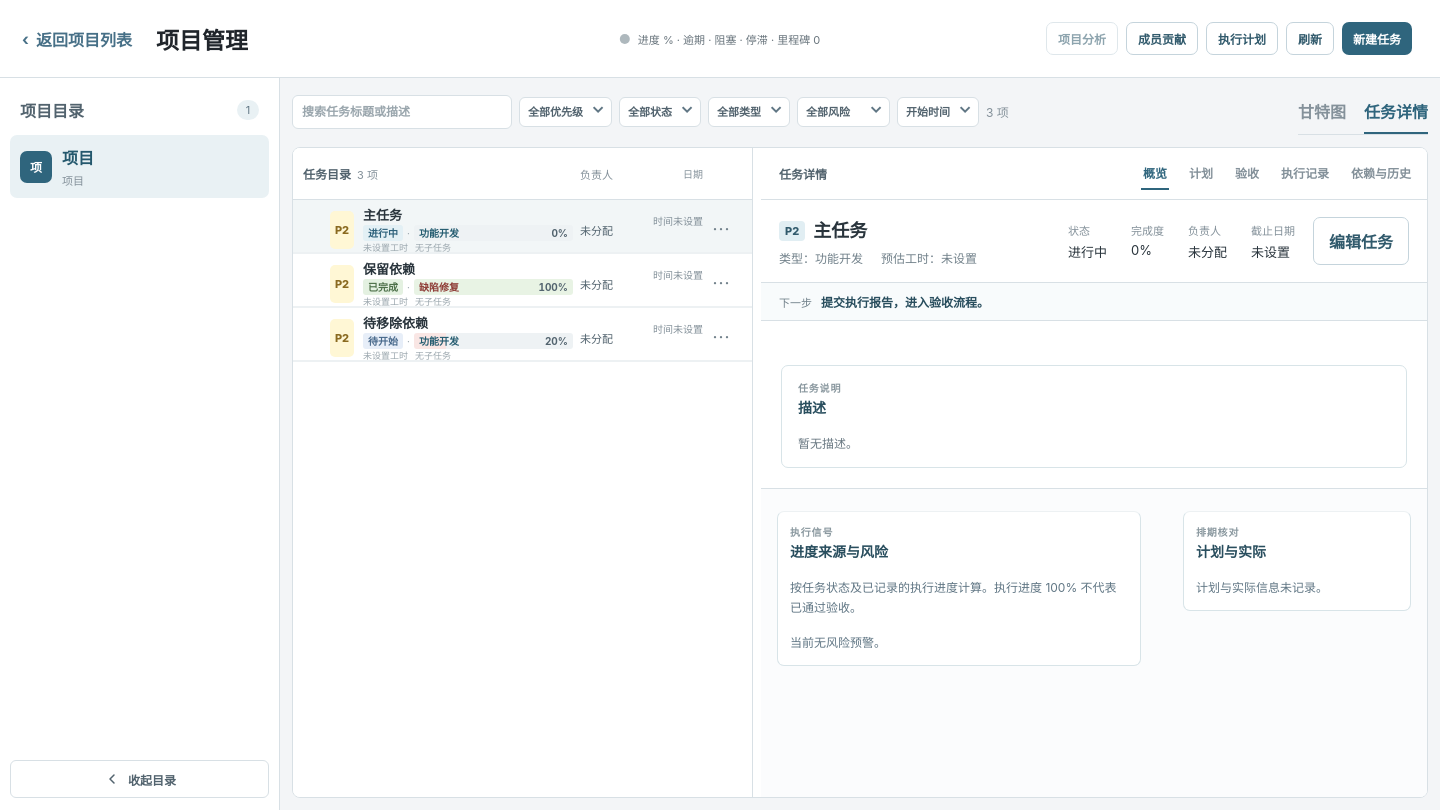
Test case: removes a dependency locally and persists the remaining selection
Expected: the heading "P2 主任务" is shown, [779,220,867,241]
Click the tab "依赖与历史". click: (1381, 174)
box: [1349,157,1413,190]
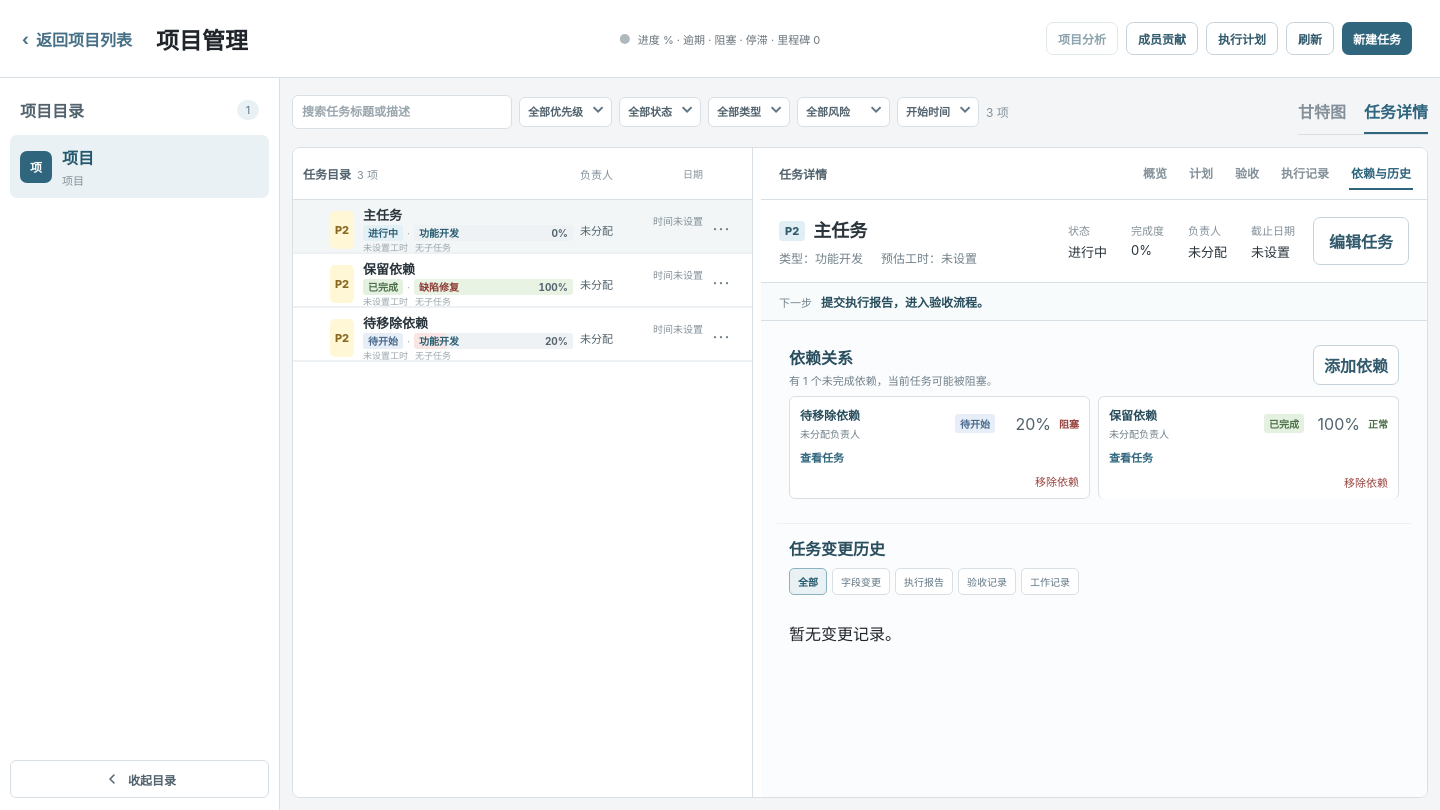
Expected: the text "待移除依赖" below "任务目录" is shown, [363,315,428,331]
Expected: the element showing "待移除依赖 未分配负责人 待开始 20% 阻塞 查看任务 移除依赖" is shown, [789,396,1090,499]
Click the button with aria-label "移除依赖 待移除依赖". click: (1057, 481)
box: [1035,473,1079,489]
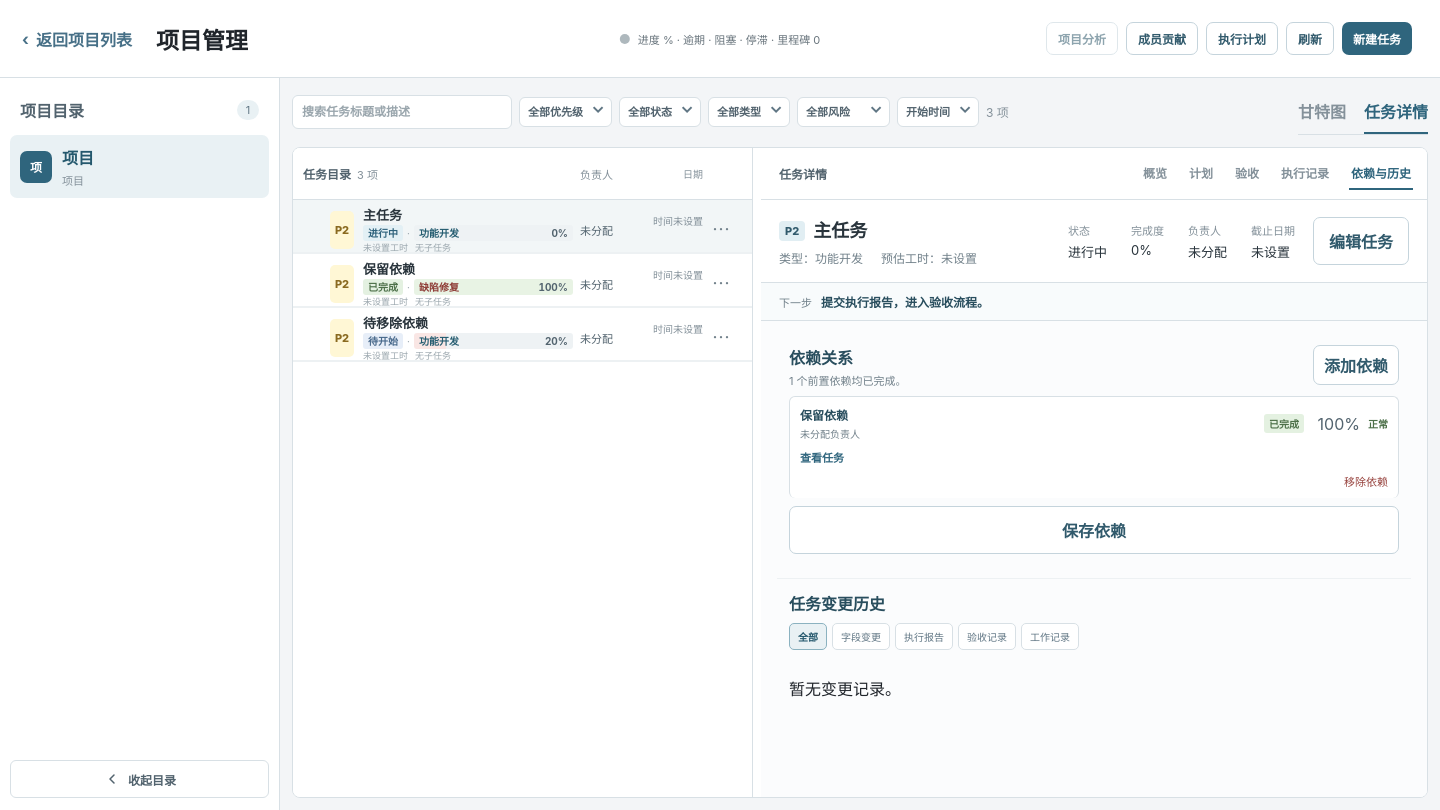
Expected: the text "待移除依赖" is shown once, [363,315,428,331]
Expected: the button "保存依赖" is shown
Click the button "保存依赖". click: (1094, 530)
box: [789,506,1399,554]
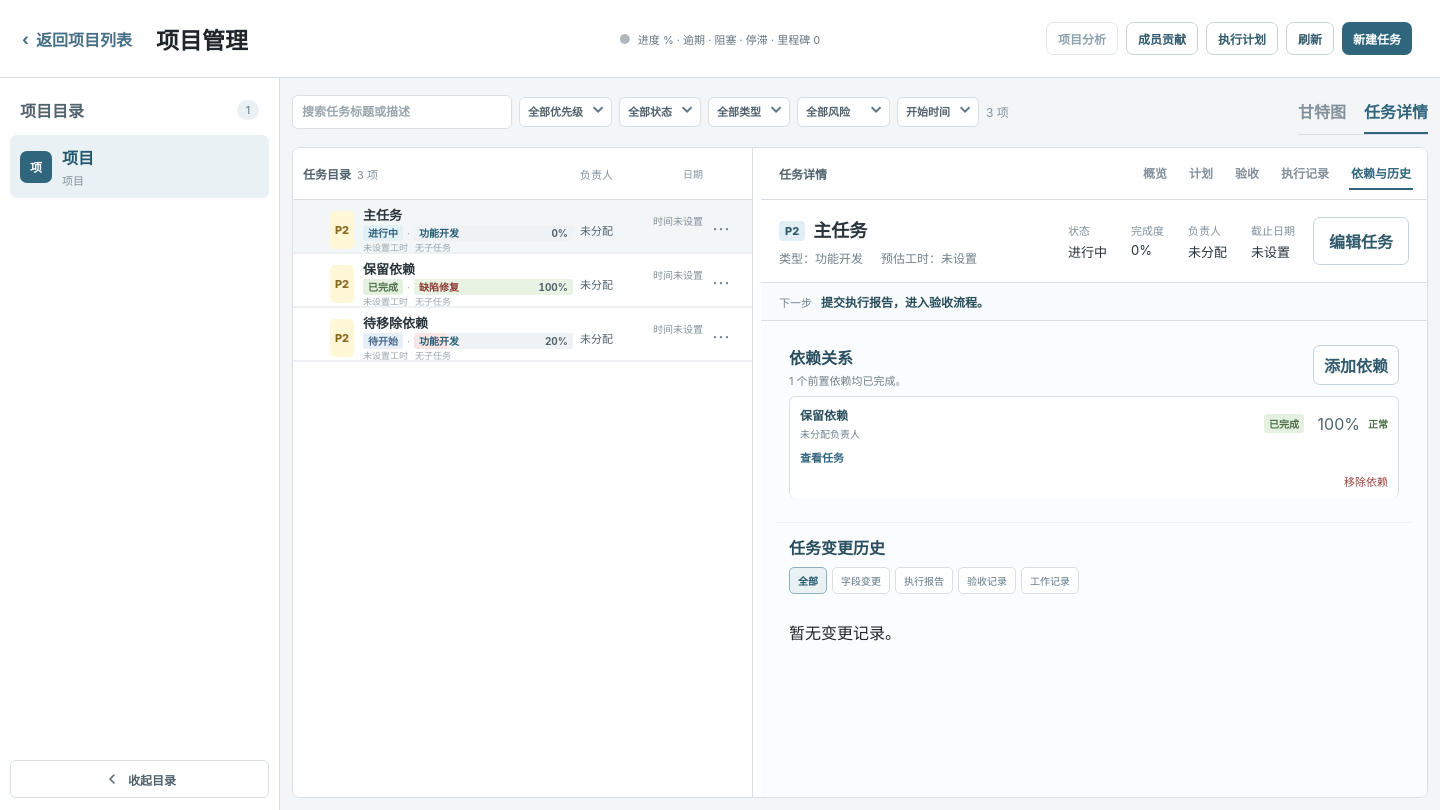
Expected: the button "保存依赖" is gone
